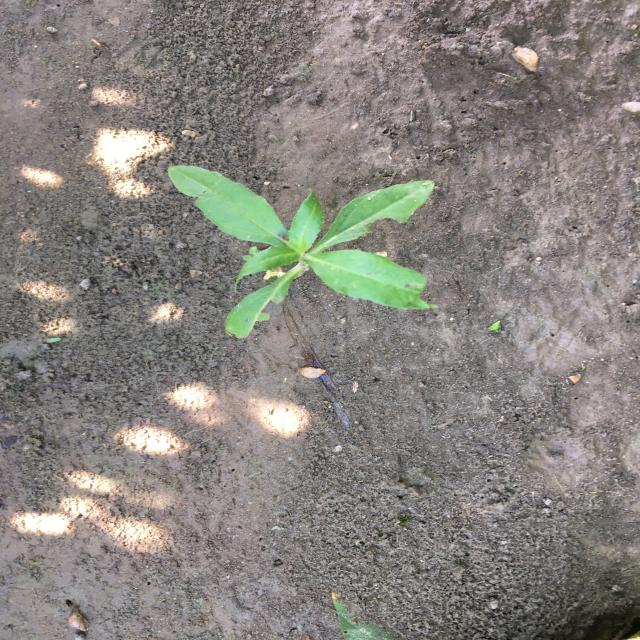Eclipta: (165, 164, 438, 342)
